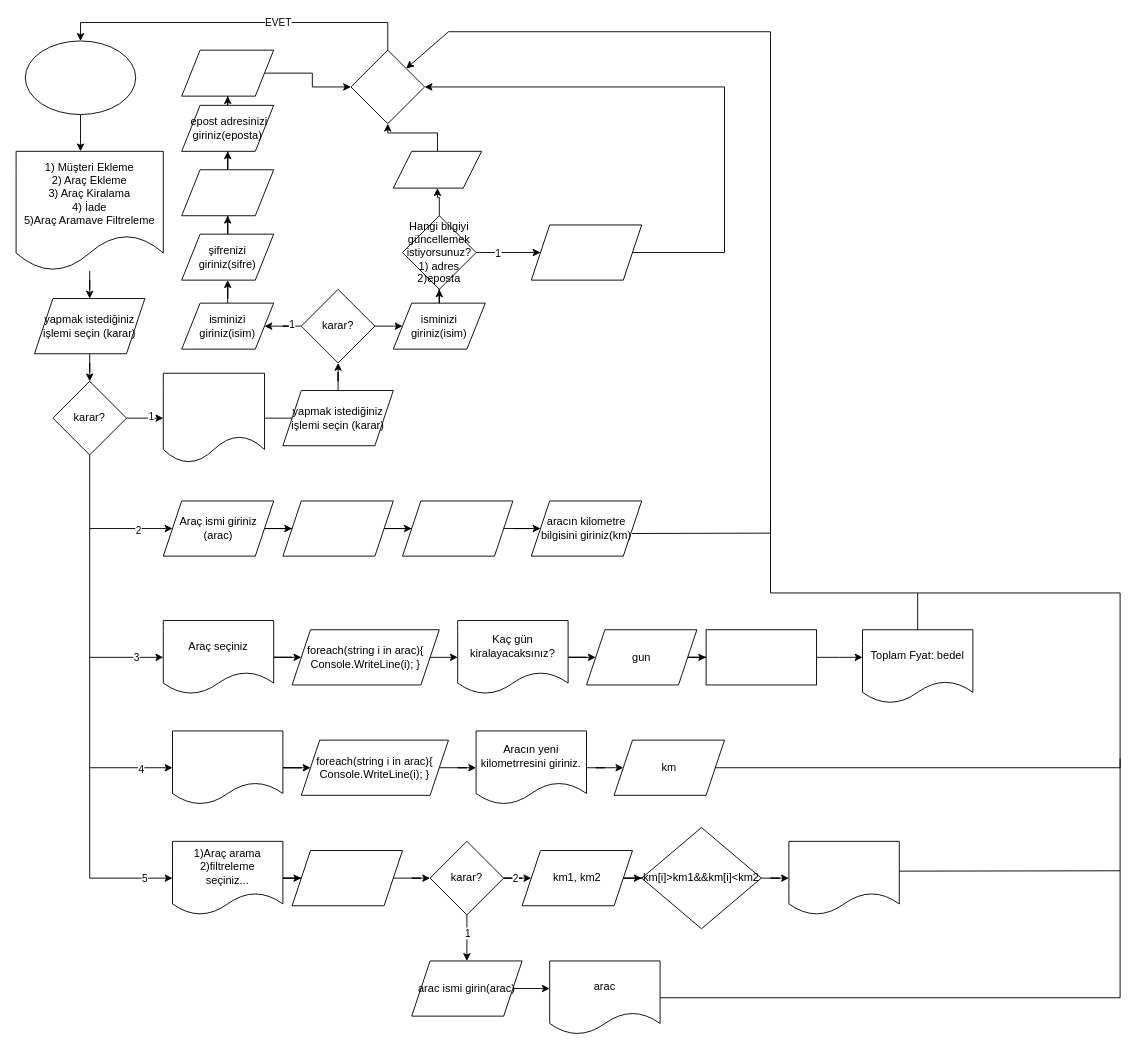
The diagram is 1137 pixels wide and 1051 high, and some of its shapes have lost their labels. The shapes that lost their labels are listed below. From the top down, each one's box as (x1, y1, x2, y2) in pixels, then its label:
(24, 40, 136, 115): BAŞLA
(181, 49, 274, 96): adresinizi giriniz(adresinizi)
(350, 49, 425, 124): başka işlem yapmak istiyor musunuz?
(392, 150, 482, 188): yeni e posta giriniz(eposta)
(181, 169, 274, 216): telefon numaranızı giriniz giriniz(telNo)
(530, 224, 642, 280): yeni adresi girin(adres)
(162, 372, 264, 463): 1) Müşteri ekleme 2) Bilgileri güncelleme
(282, 500, 393, 556): aracın model yılını giriniz(modelYılı)
(402, 500, 513, 556): aracın plakasını giriniz(plaka)
(705, 629, 816, 685): bedel = gun*300;
(172, 730, 283, 805): İade etmek istediğiniz aracı seçiniz
(291, 850, 402, 906): karar
(788, 840, 899, 915): Arac[i]
